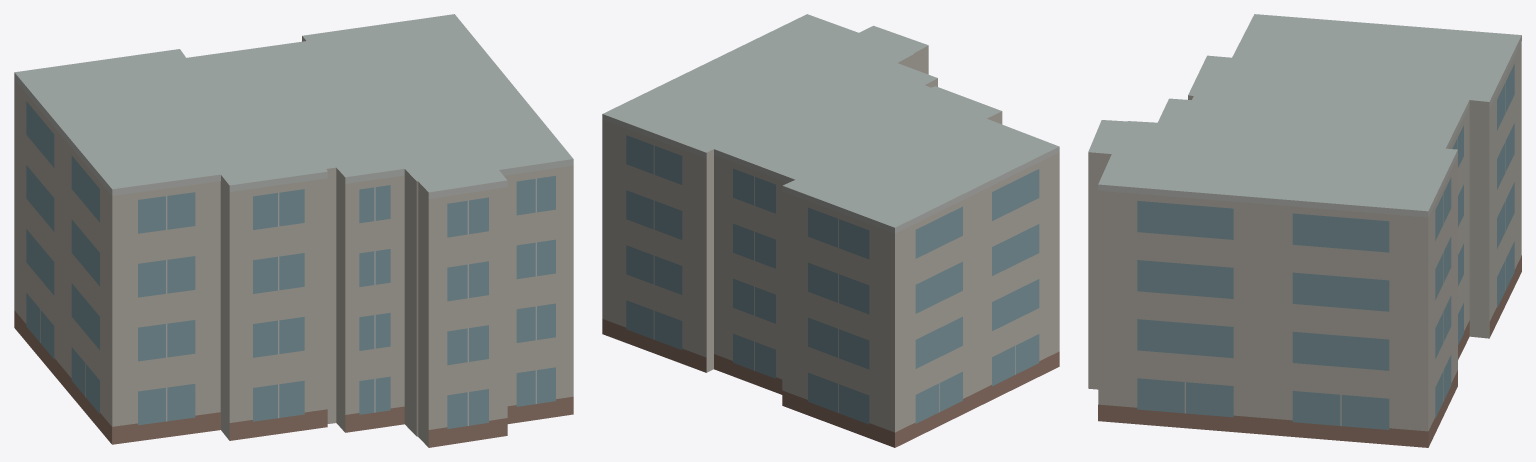
Rendered from survey-upis-32658074.glb.
3 views of the same model, side by side, from view 1: azimuth 30°, elevation 25°; view 2: azimuth 150°, elevation 25°; view 3: azimuth 270°, elevation 25° (orthographic). The views are drawn at different scales.
Visible parts, largest first — view 1: survey-upis-32658074.tmp; view 2: survey-upis-32658074.tmp; view 3: survey-upis-32658074.tmp.
Boxes of the visible parts, <box> form: survey-upis-32658074.tmp: <box>14,14,573,447</box>; survey-upis-32658074.tmp: <box>602,14,1059,447</box>; survey-upis-32658074.tmp: <box>1088,14,1521,447</box>.
Bounding box in the file's own units: 16.82 × 9.4 × 15.63.
